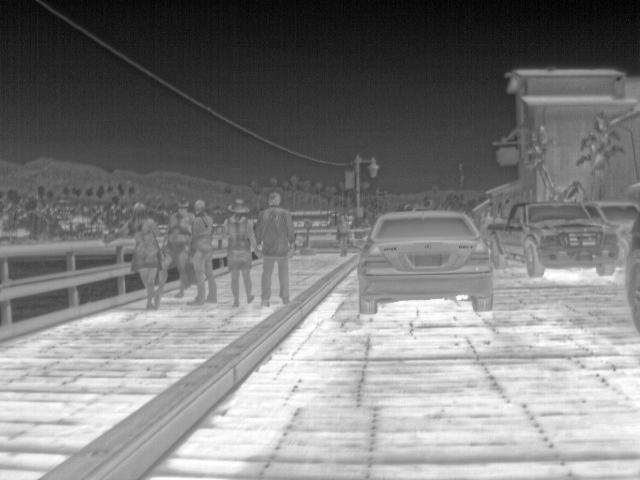car: (358, 211, 496, 313), (481, 198, 614, 276), (585, 199, 640, 266)
person: (260, 192, 299, 308), (221, 199, 263, 306), (154, 202, 194, 300), (130, 201, 161, 310), (188, 200, 218, 306), (336, 214, 351, 257)
